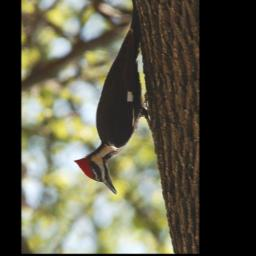Woodpecker: (74, 0, 162, 195)
